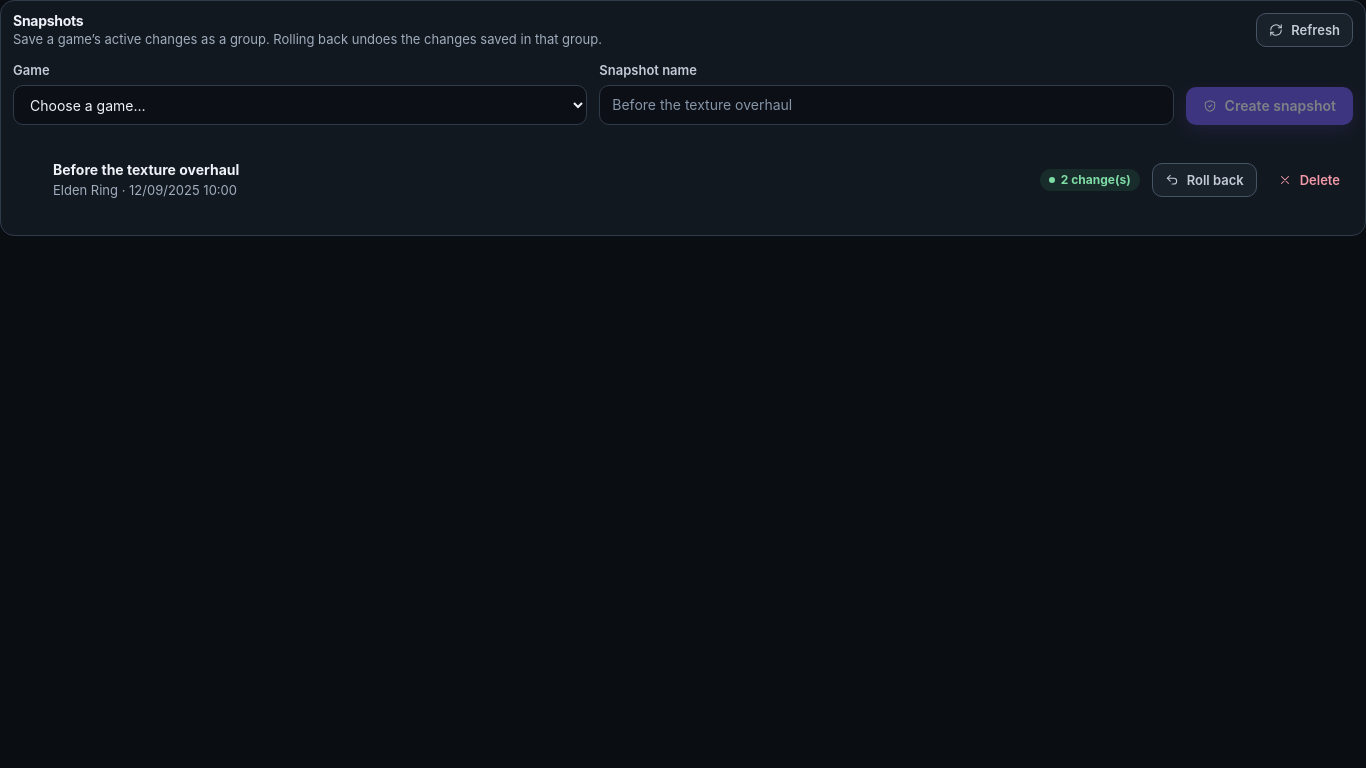
SnapshotPanel — rolling back › explains a failed rollback through ErrorCallout instead of dumping err.message
Click the button "Roll back" at (1204, 180), box x1=1152 y1=163 x2=1257 y2=197
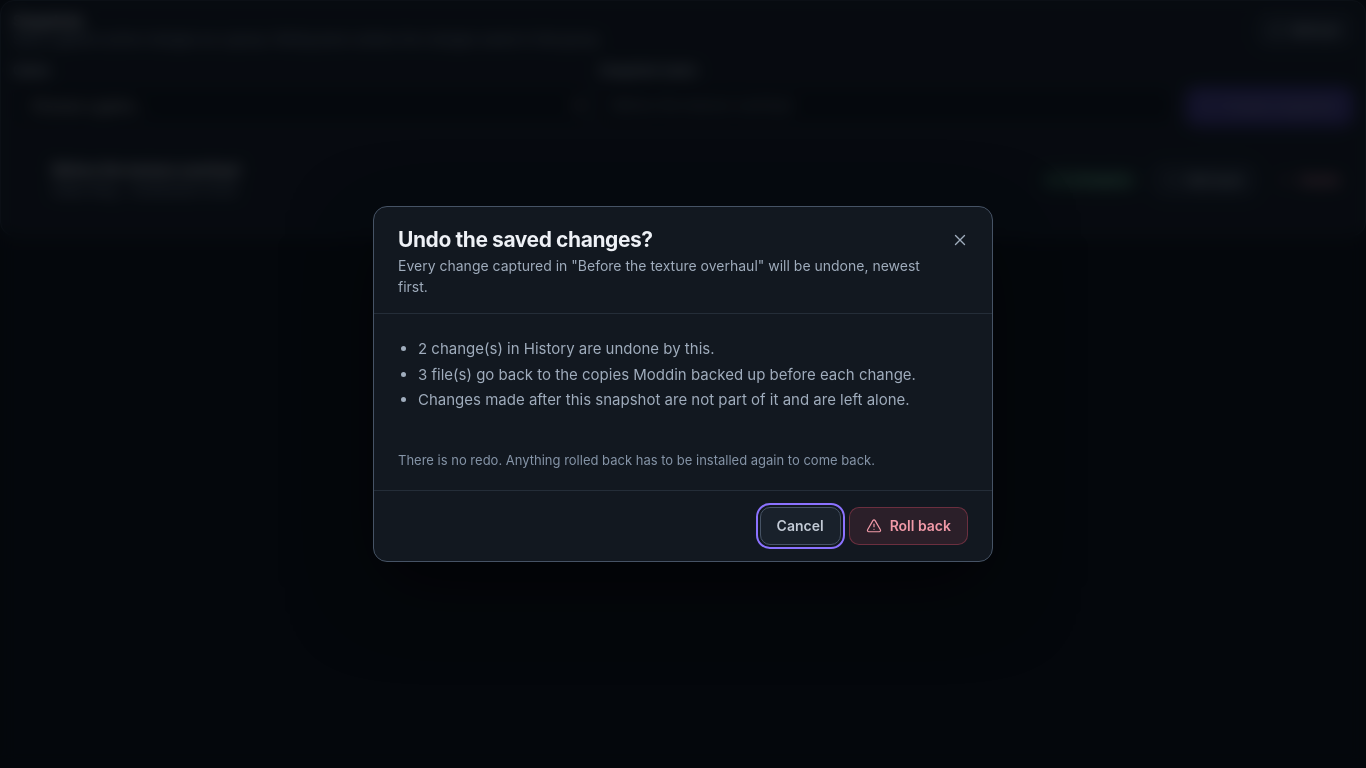
Click the button with class "btn-danger-solid" at (908, 526), box x1=849 y1=507 x2=968 y2=545
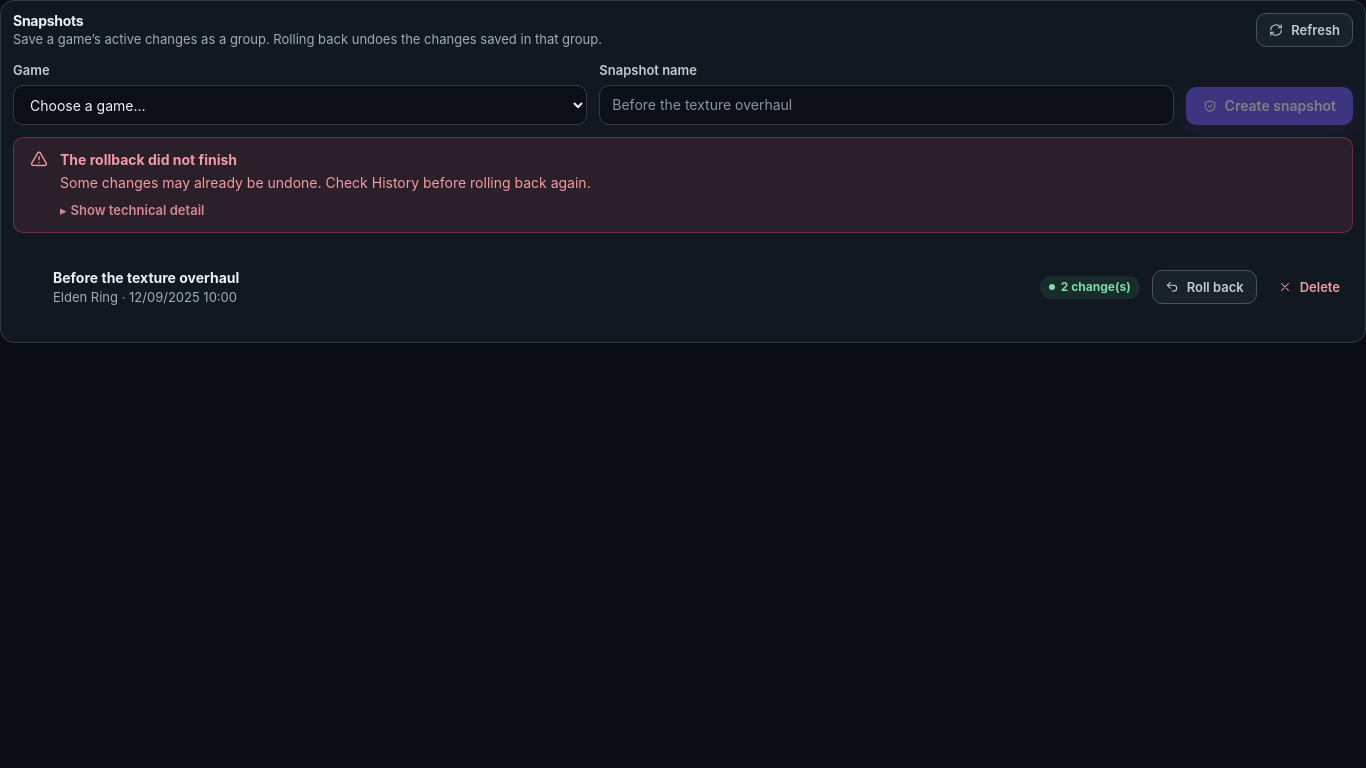
Now the message with class "callout-danger" is shown, box x1=13 y1=138 x2=1353 y2=233
Now the text "The rollback did not finish" is shown, box x1=60 y1=152 x2=237 y2=168
Now the text "Some changes may already be undone. Check History before rolling back again." is shown, box x1=60 y1=174 x2=591 y2=191
